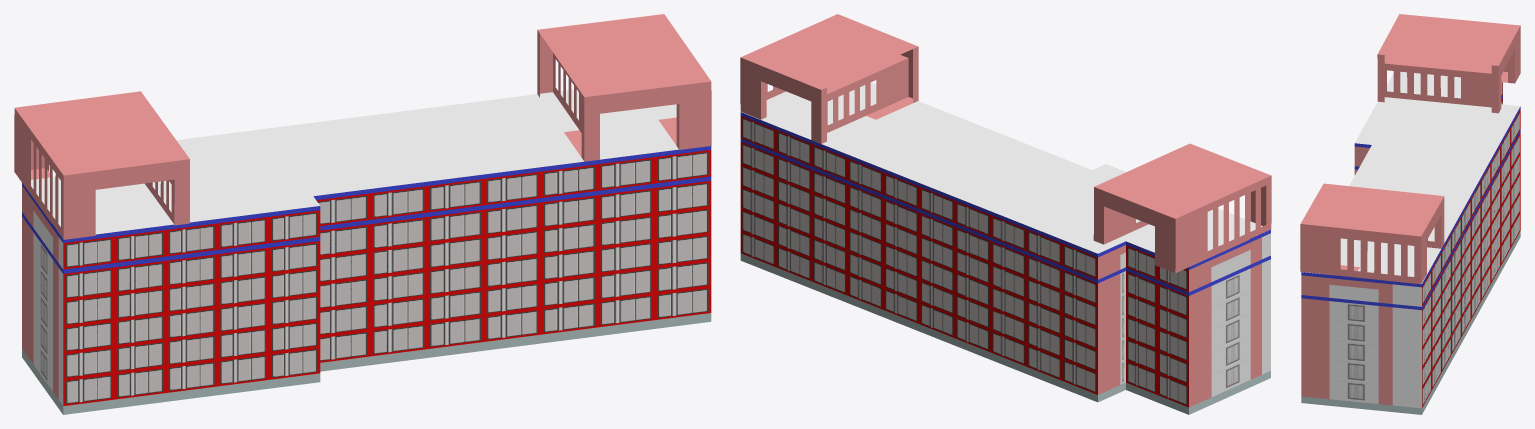
Rendered from tingtaosushe.fbx.
3 views of the same model, side by side, from view 1: azimuth 30°, elevation 25°; view 2: azimuth 150°, elevation 25°; view 3: azimuth 270°, elevation 25° (orthographic). The views are drawn at different scales.
Parts seen in each view (by area): view 1: CityEngineMaterial_6_m, CityEngineMaterial_m, CityEngineMaterial_3_m, CityEngineMaterial_5_m, CityEngineMaterial_2_m, CityEngineMaterial_1_m, CityEngineMaterial_4_m; view 2: CityEngineMaterial_6_m, CityEngineMaterial_3_m, CityEngineMaterial_m, CityEngineMaterial_5_m, CityEngineMaterial_4_m, CityEngineMaterial_2_m, CityEngineMaterial_1_m; view 3: CityEngineMaterial_3_m, CityEngineMaterial_m, CityEngineMaterial_6_m, CityEngineMaterial_4_m, CityEngineMaterial_5_m, CityEngineMaterial_2_m, CityEngineMaterial_1_m.
Boxes of the visible parts, x1=… form: CityEngineMaterial_6_m: x1=66, y1=152, x2=708, y2=403; CityEngineMaterial_m: x1=31, y1=89, x2=678, y2=405; CityEngineMaterial_3_m: x1=14, y1=14, x2=711, y2=399; CityEngineMaterial_5_m: x1=63, y1=150, x2=711, y2=405; CityEngineMaterial_2_m: x1=22, y1=146, x2=711, y2=273; CityEngineMaterial_1_m: x1=22, y1=313, x2=711, y2=414; CityEngineMaterial_4_m: x1=33, y1=232, x2=52, y2=391; CityEngineMaterial_6_m: x1=742, y1=118, x2=1187, y2=404; CityEngineMaterial_3_m: x1=740, y1=14, x2=1271, y2=407; CityEngineMaterial_m: x1=741, y1=82, x2=1270, y2=374; CityEngineMaterial_5_m: x1=740, y1=116, x2=1188, y2=407; CityEngineMaterial_4_m: x1=1120, y1=268, x2=1250, y2=397; CityEngineMaterial_2_m: x1=740, y1=112, x2=1270, y2=295; CityEngineMaterial_1_m: x1=740, y1=253, x2=1270, y2=414; CityEngineMaterial_3_m: x1=1300, y1=14, x2=1520, y2=405; CityEngineMaterial_m: x1=1302, y1=71, x2=1520, y2=408; CityEngineMaterial_6_m: x1=1422, y1=82, x2=1519, y2=405; CityEngineMaterial_4_m: x1=1329, y1=301, x2=1378, y2=403; CityEngineMaterial_5_m: x1=1422, y1=82, x2=1520, y2=407; CityEngineMaterial_2_m: x1=1301, y1=72, x2=1520, y2=310; CityEngineMaterial_1_m: x1=1301, y1=231, x2=1520, y2=414.
Bounding box in the file's own units: 73.05 × 27.32 × 30.49.
